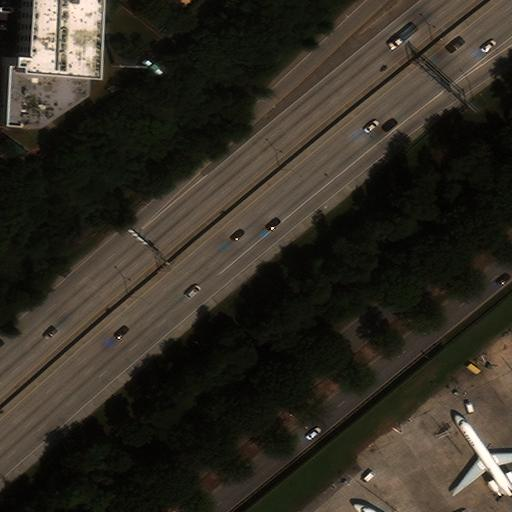Medium Civil Transport: (451, 414, 512, 505)
